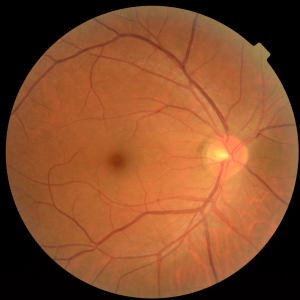healthy_eye: (73, 110, 272, 220)
